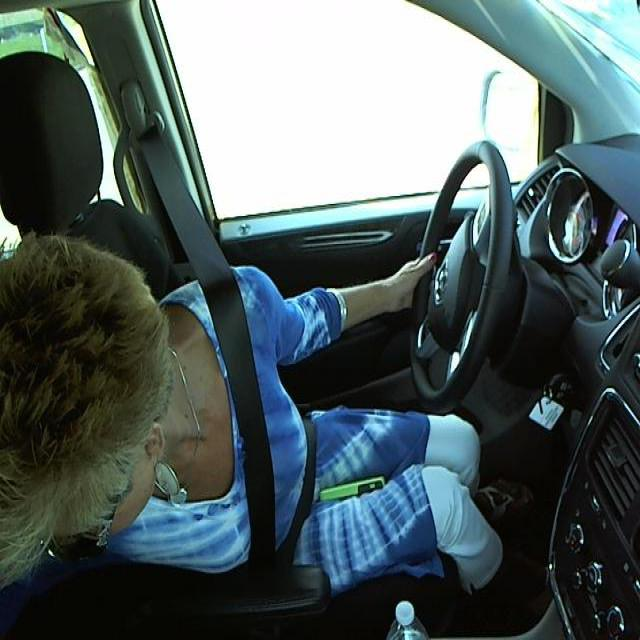seatbelt: (182, 241, 320, 555)
